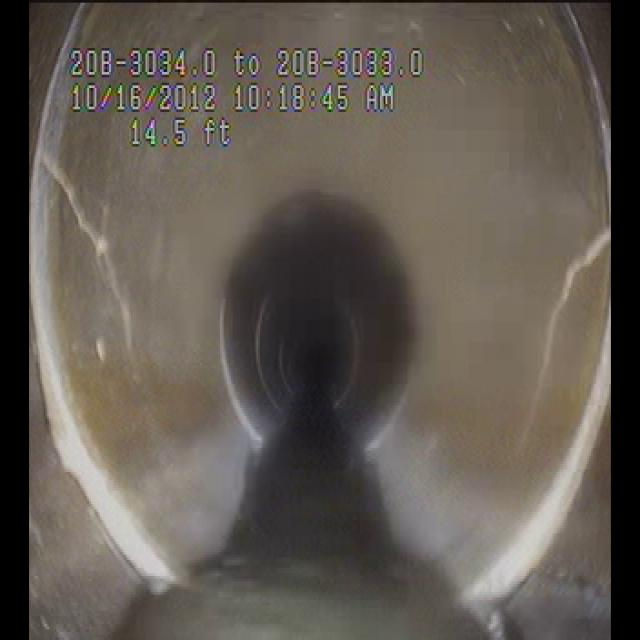Crack: (49, 143, 163, 372), (531, 203, 617, 460)
